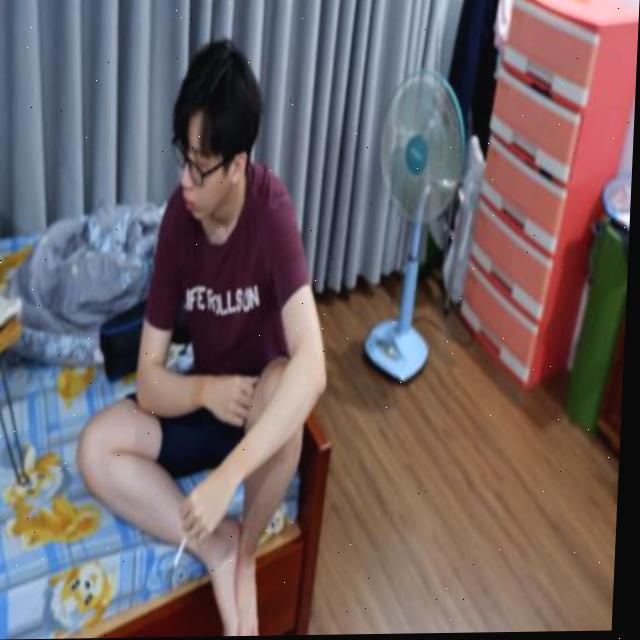cigarette: (179, 529, 196, 568)
